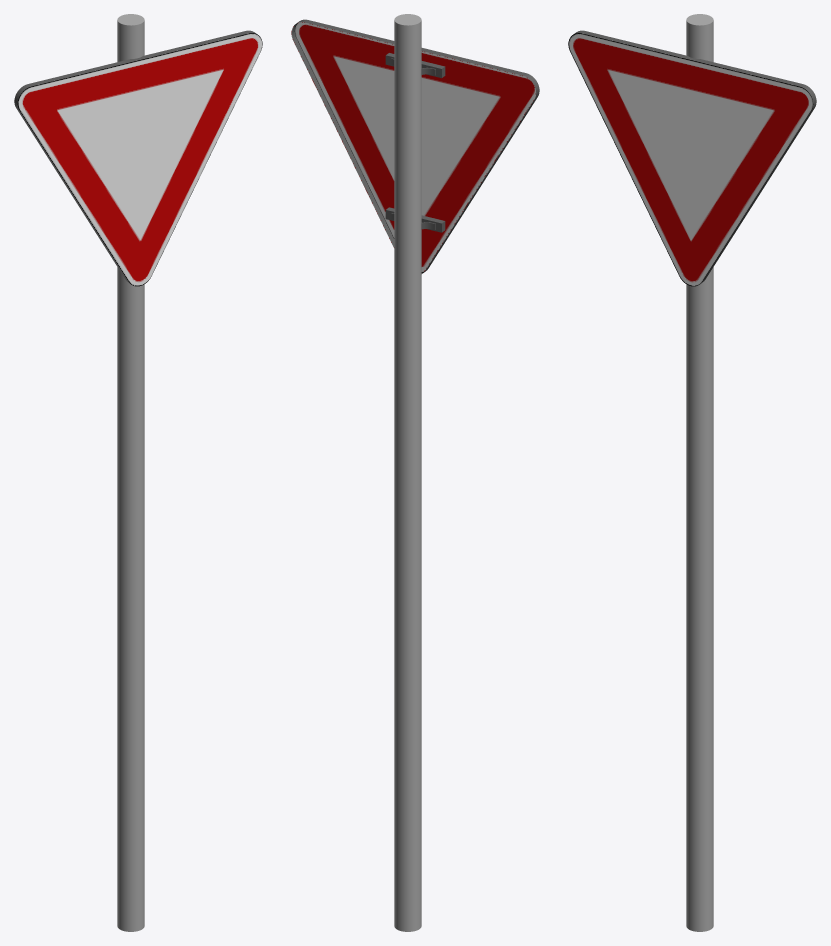
The model's file is T_tortilla.dae.
3 views of the same model, side by side, from view 1: azimuth 30°, elevation 25°; view 2: azimuth 150°, elevation 25°; view 3: azimuth 330°, elevation 25° (orthographic).
Visible parts, largest first — view 1: Sign.277, Pole.002; view 2: Sign.277, Pole.002; view 3: Sign.277, Pole.002.
Part boxes in pixels (<box>): Sign.277: <box>14,30,262,286</box>; Pole.002: <box>117,14,144,931</box>; Sign.277: <box>291,19,539,273</box>; Pole.002: <box>394,14,421,931</box>; Sign.277: <box>568,30,816,286</box>; Pole.002: <box>686,14,713,931</box>.
Size of the model in its own units: 0.6218 by 0.0704 by 2.2.
3 materials, 1 textured.
